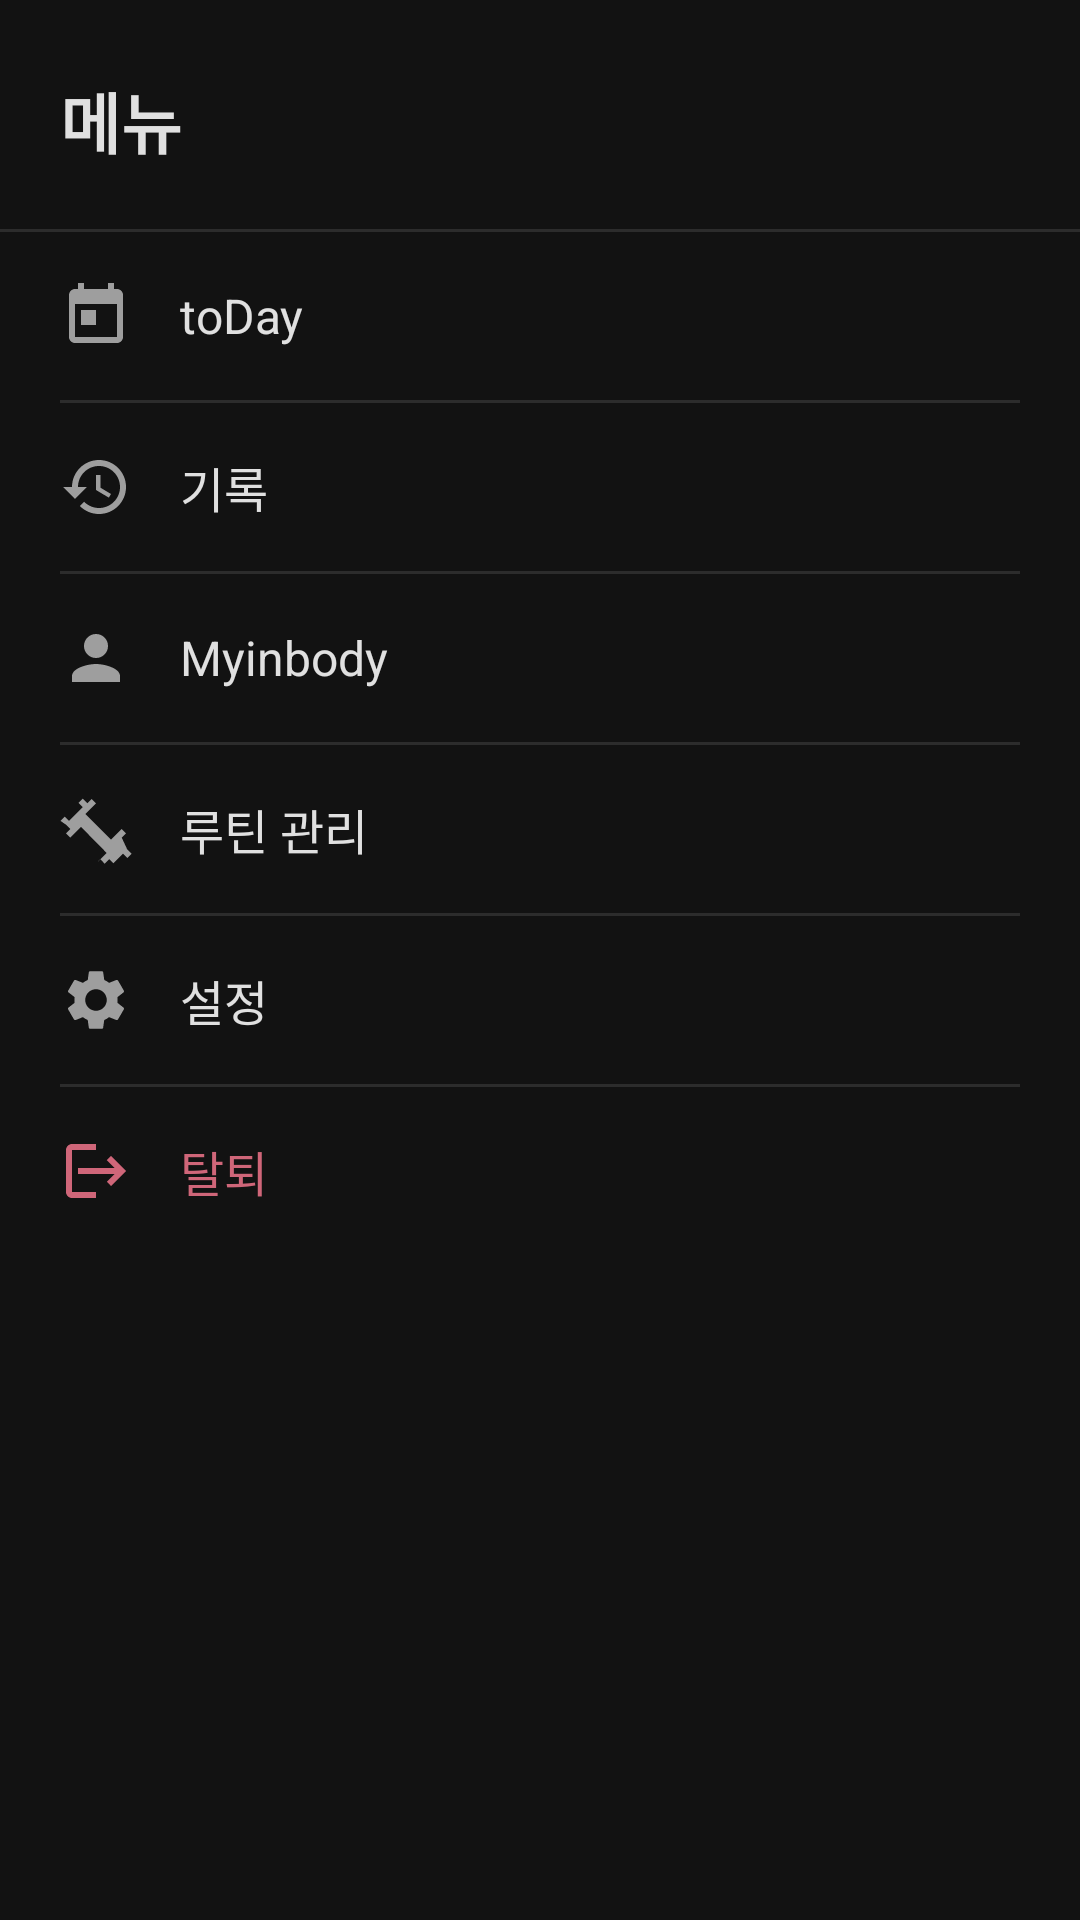

Point at icon controls on the screen. Image size 1080w x 1920h, points as point (x, y).
fitness center: point (96, 831)
history: point (94, 487)
settings: point (96, 1000)
